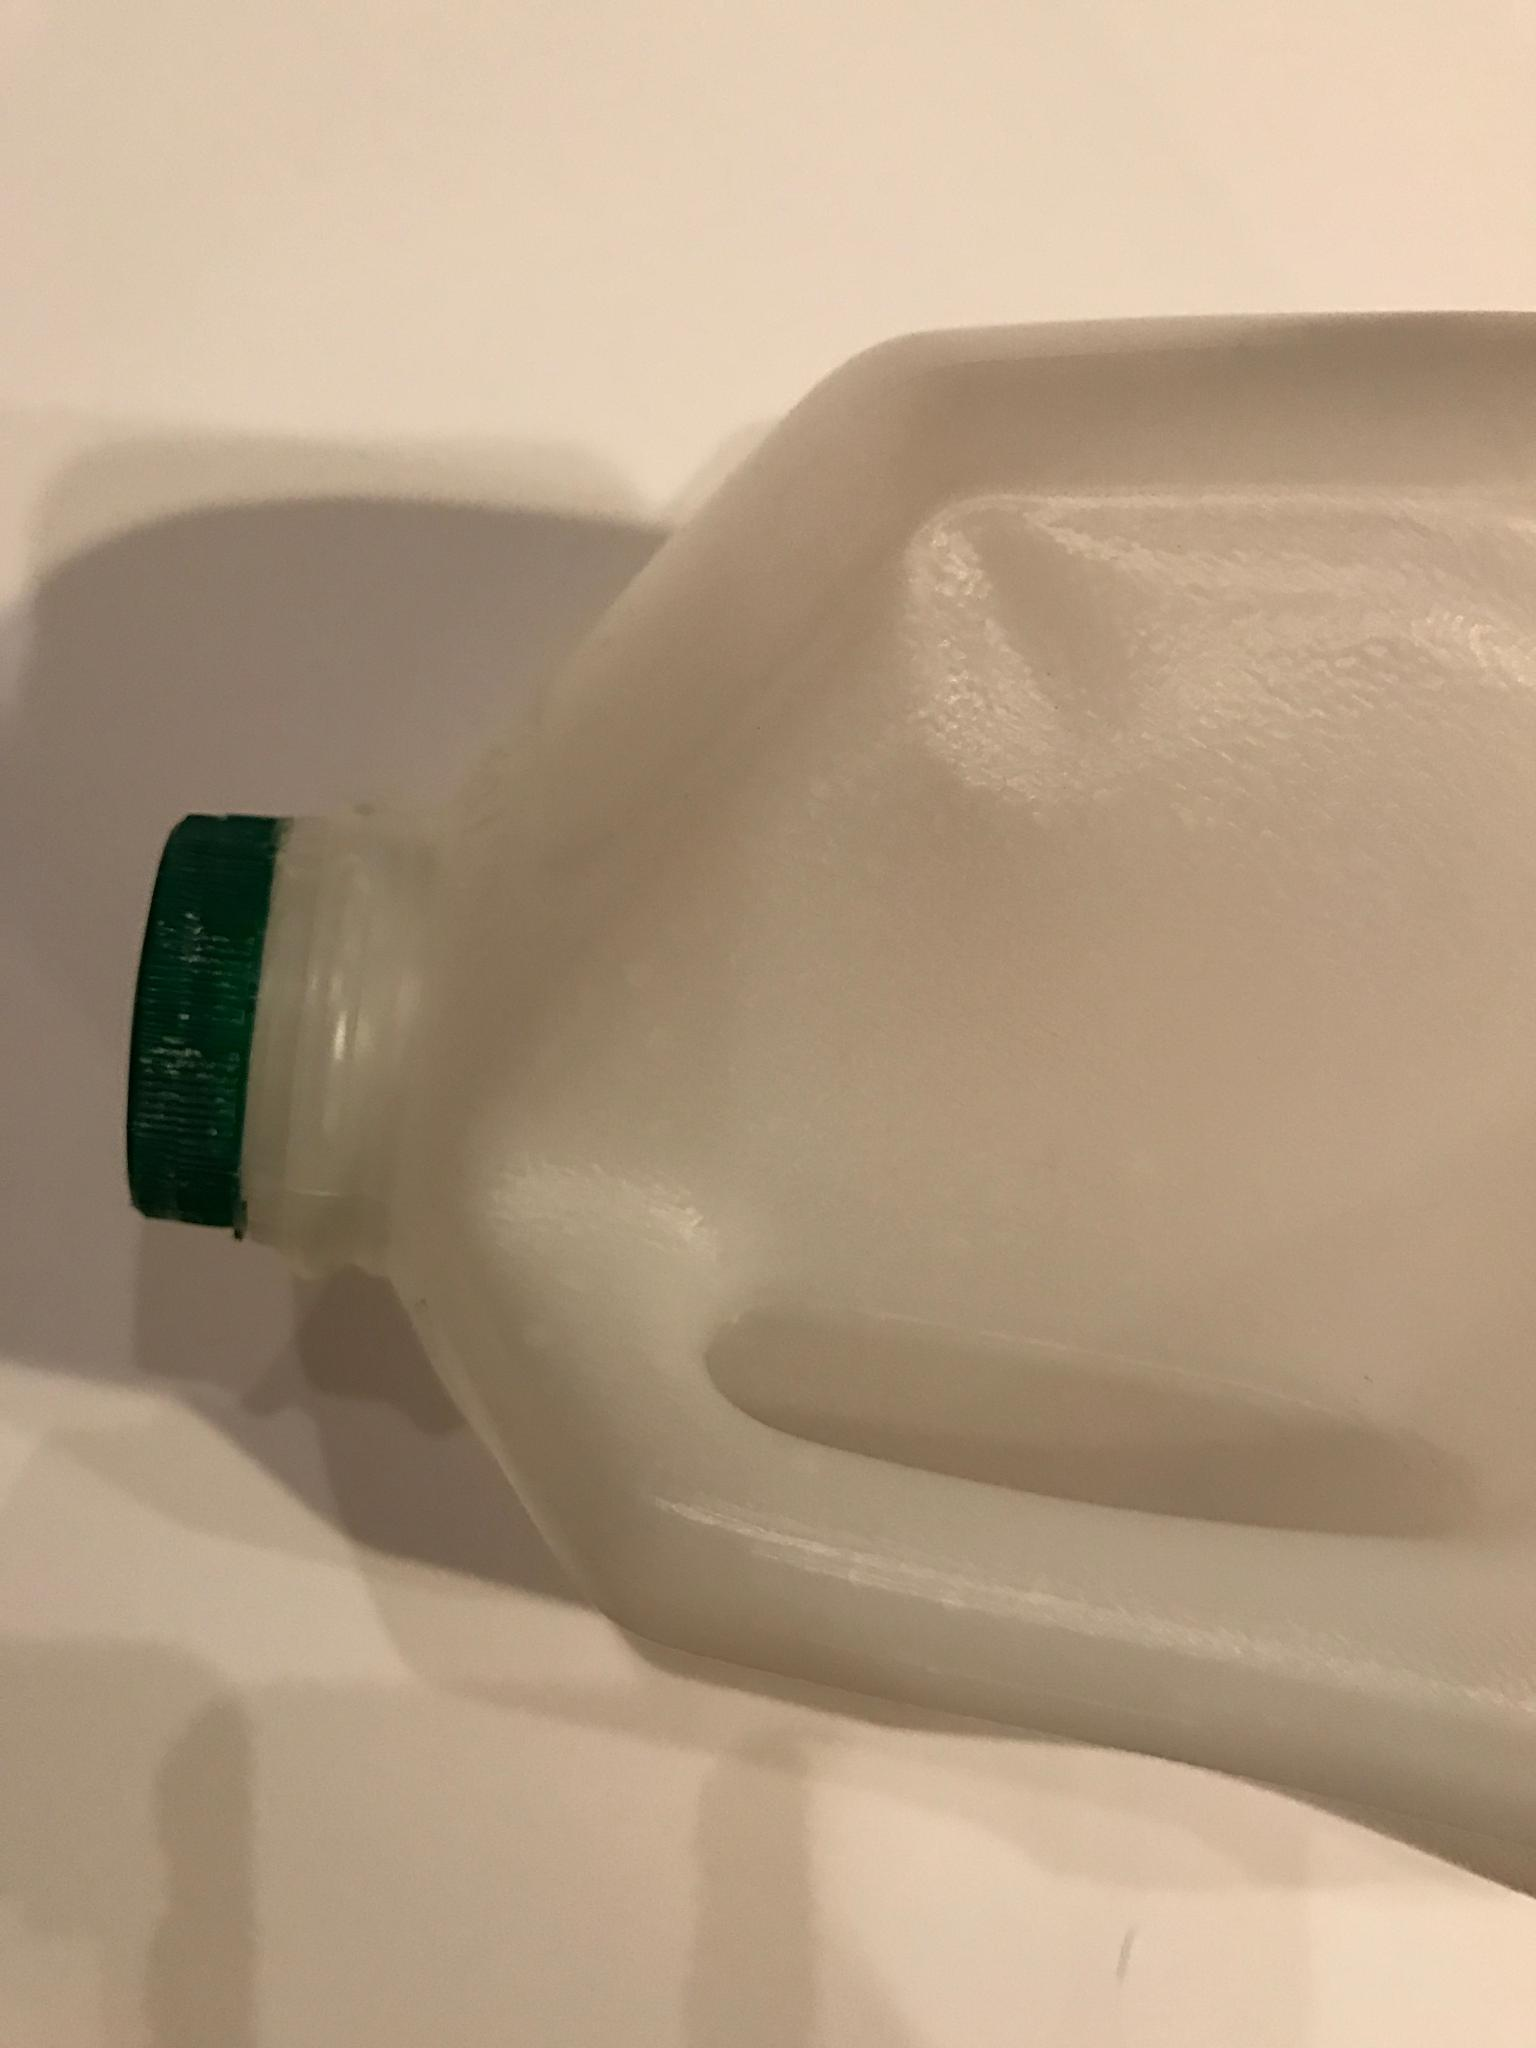Plastic: (110, 305, 1534, 1904)
